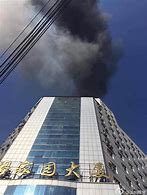smoke: (1, 1, 122, 94)
